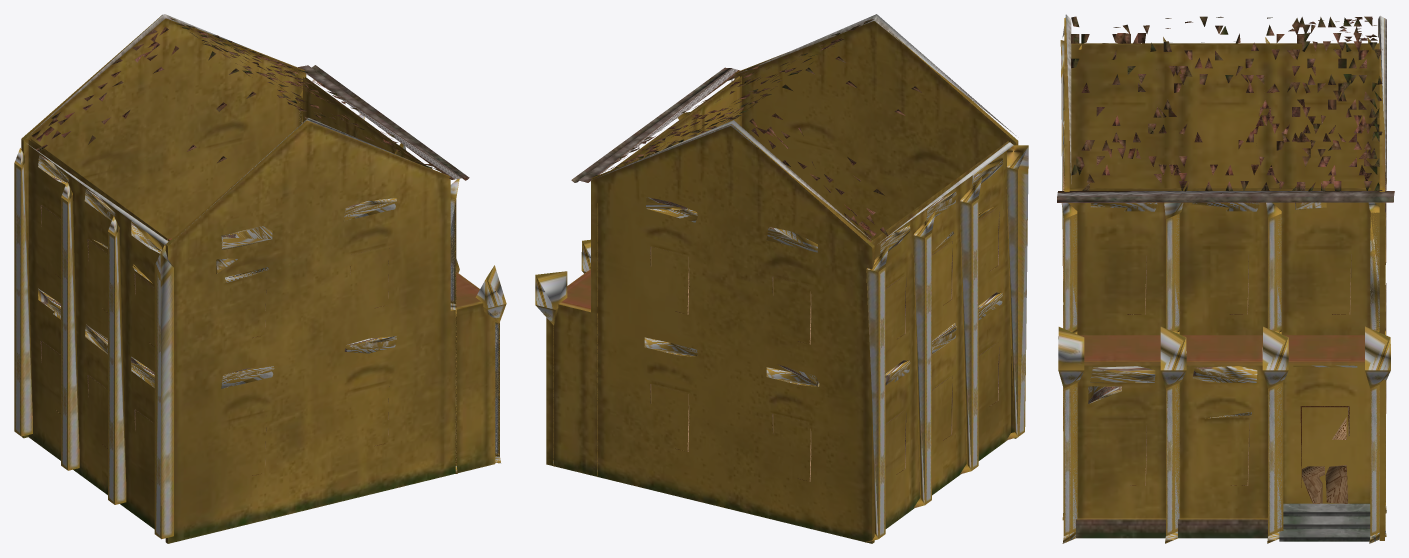
The model's file is nha-hoi-an-2.glb.
The picture shows the model from 3 angles, left to right: view 1: azimuth 30°, elevation 25°; view 2: azimuth 150°, elevation 25°; view 3: azimuth 270°, elevation 25°; orthographic projection. The views are drawn at different scales.
Visible parts, largest first — view 1: Cube_Tuong_0, Cube.001_phaochi_0, Cylinder.003_mai_0; view 2: Cube_Tuong_0, Cube.001_phaochi_0, Cylinder.003_mai_0, Cube.009_cua_0; view 3: Cube_Tuong_0, Cube.001_phaochi_0, Cylinder.003_mai_0, Cube.009_cua_0.
Boxes of the visible parts, bbox=[...] form: Cube_Tuong_0: bbox=[21, 15, 495, 543]; Cube.001_phaochi_0: bbox=[14, 14, 506, 539]; Cylinder.003_mai_0: bbox=[31, 17, 469, 180]; Cube_Tuong_0: bbox=[546, 21, 1018, 543]; Cube.001_phaochi_0: bbox=[535, 14, 1028, 542]; Cylinder.003_mai_0: bbox=[571, 19, 921, 239]; Cube.009_cua_0: bbox=[650, 208, 999, 481]; Cube_Tuong_0: bbox=[1064, 18, 1384, 541]; Cube.001_phaochi_0: bbox=[1058, 14, 1390, 543]; Cylinder.003_mai_0: bbox=[1057, 16, 1394, 202]; Cube.009_cua_0: bbox=[1063, 154, 1386, 503].
Bounding box in the file's own units: 0.9225 × 1 × 0.7152.
4 materials, 4 textured.
